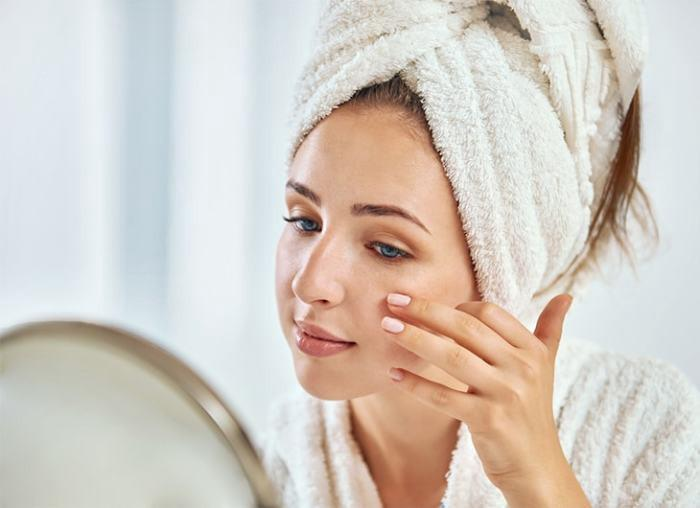Oily-Skin: (405, 145, 438, 220), (323, 225, 355, 273), (301, 122, 320, 188)
